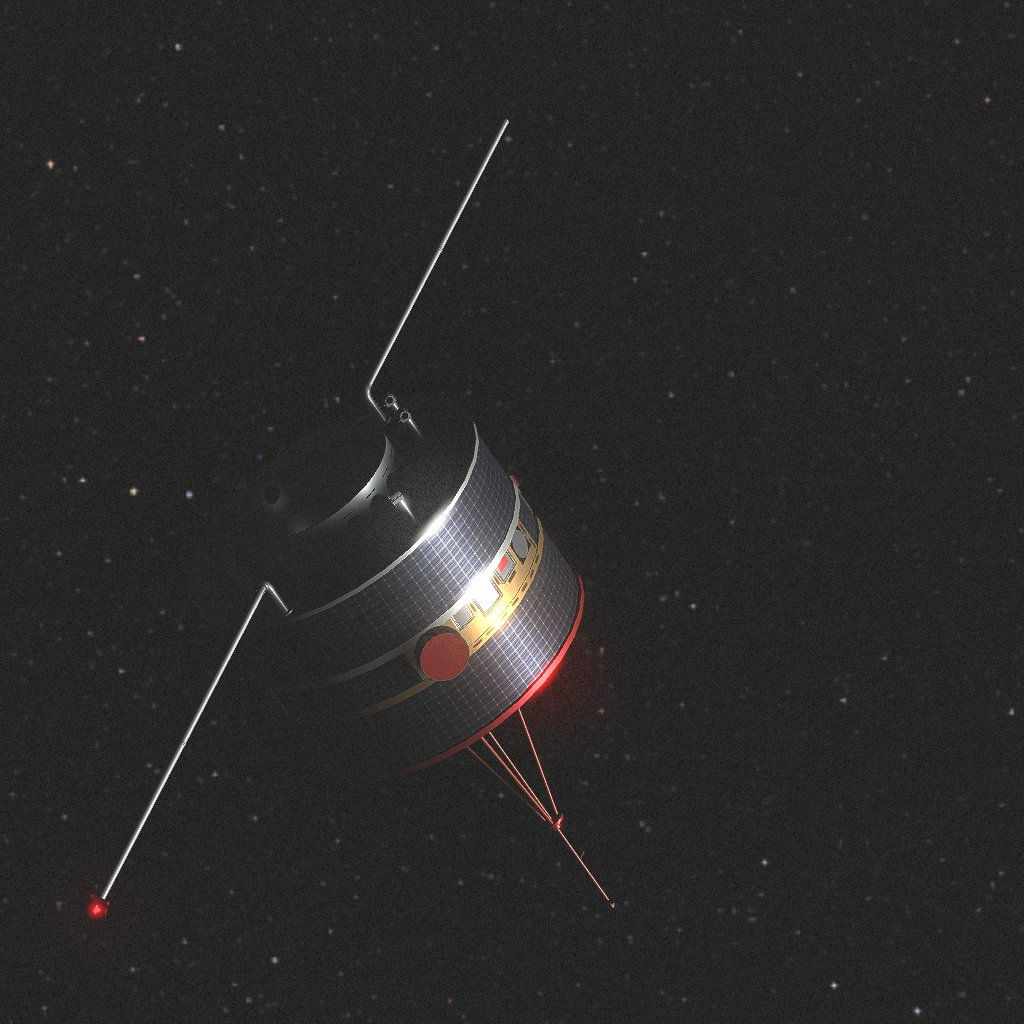double_star: (85, 119, 615, 917)
